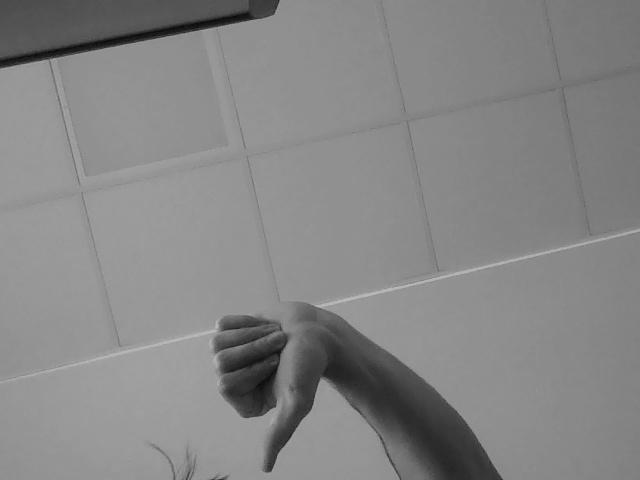bad: (204, 283, 373, 477)
